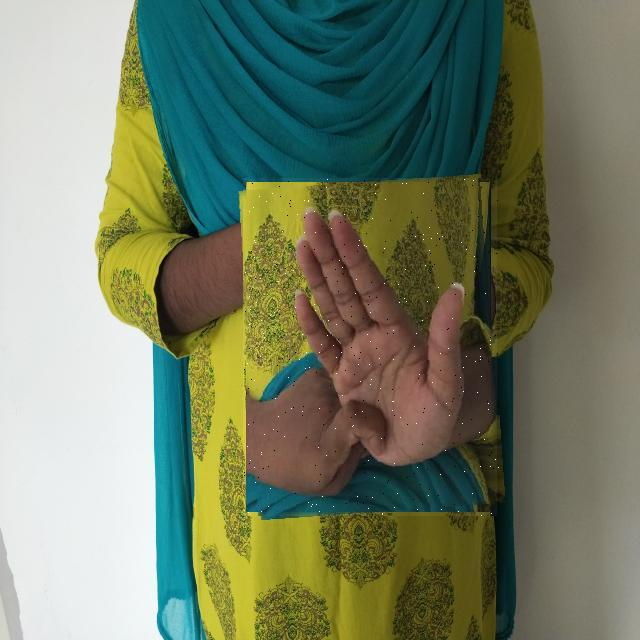R: (243, 178, 500, 516)
